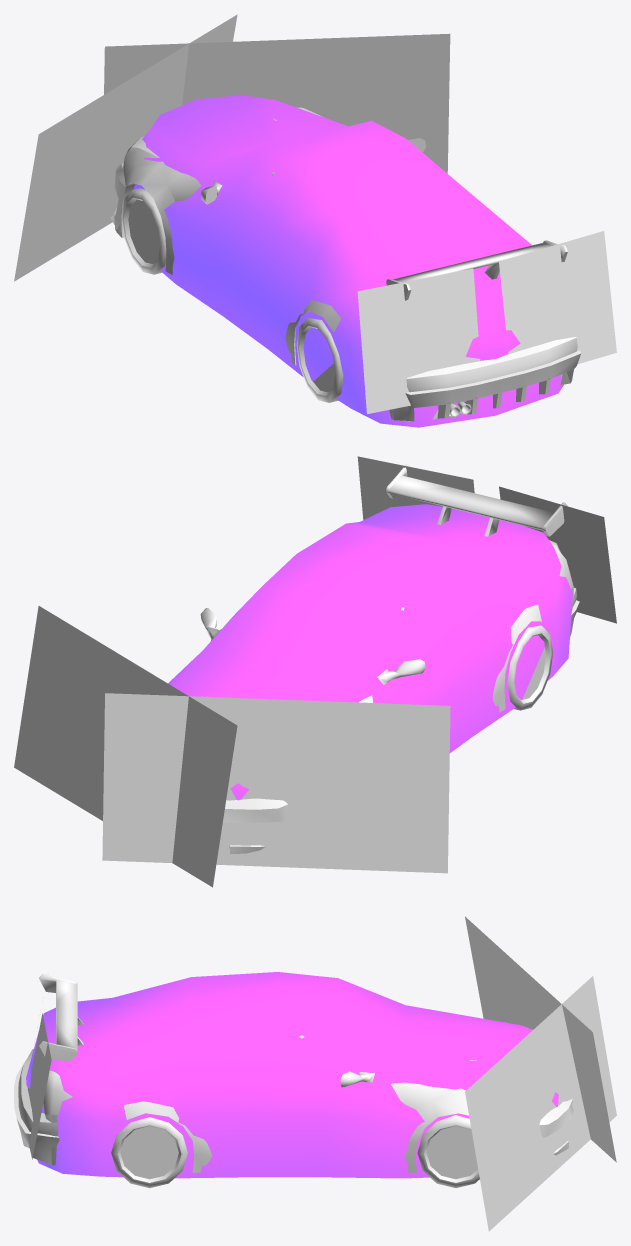
The model's file is Nissan.fbx.
3 renders of one model, top to bottom at view 1: azimuth 30°, elevation 25°; view 2: azimuth 150°, elevation 25°; view 3: azimuth 270°, elevation 25°, orthographic. The views are drawn at different scales.
Visible parts, largest first — view 1: NissanProxy, NissanFrontLights, NissanRearLights, NissanRearBumper2, Nissan, NissanWheel_LF, NissanWheel_LB, NissanSpoiler1; view 2: NissanFrontLights, NissanProxy, NissanRearLights, NissanSpoiler1, Nissan, NissanWheel_LB, NissanFrontBumper2; view 3: NissanProxy, NissanFrontLights, Nissan, NissanWheel_RB, NissanWheel_RF, NissanSpoiler1, NissanRearBumper2, NissanRearLights, NissanFrontBumper2.
Part boxes in pixels (left/top/right/bottom): NissanProxy: left=134, top=95, right=564, bottom=427; NissanFrontLights: left=14, top=14, right=450, bottom=281; NissanRearLights: left=357, top=231, right=616, bottom=414; NissanRearBumper2: left=393, top=337, right=581, bottom=421; Nissan: left=121, top=107, right=426, bottom=365; NissanWheel_LF: left=121, top=188, right=166, bottom=274; NissanWheel_LB: left=296, top=318, right=343, bottom=402; NissanSpoiler1: left=386, top=240, right=567, bottom=300; NissanFrontLights: left=14, top=606, right=450, bottom=887; NissanProxy: left=168, top=504, right=572, bottom=800; NissanRearLights: left=357, top=456, right=616, bottom=623; NissanSpoiler1: left=386, top=464, right=567, bottom=536; Nissan: left=200, top=540, right=573, bottom=712; NissanWheel_LB: left=507, top=625, right=553, bottom=710; NissanFrontBumper2: left=223, top=798, right=287, bottom=853; NissanProxy: left=26, top=972, right=558, bottom=1178; NissanFrontLights: left=465, top=916, right=616, bottom=1231; Nissan: left=43, top=1022, right=505, bottom=1173; NissanWheel_RB: left=111, top=1117, right=187, bottom=1188; NissanWheel_RF: left=417, top=1115, right=479, bottom=1187; NissanSpoiler1: left=39, top=974, right=83, bottom=1061; NissanRearBumper2: left=14, top=1049, right=59, bottom=1164; NissanRearLights: left=27, top=1013, right=51, bottom=1159; NissanFrontBumper2: left=539, top=1099, right=573, bottom=1155.
Size of the model in its own units: 3.91 by 5.39 by 1.45.
